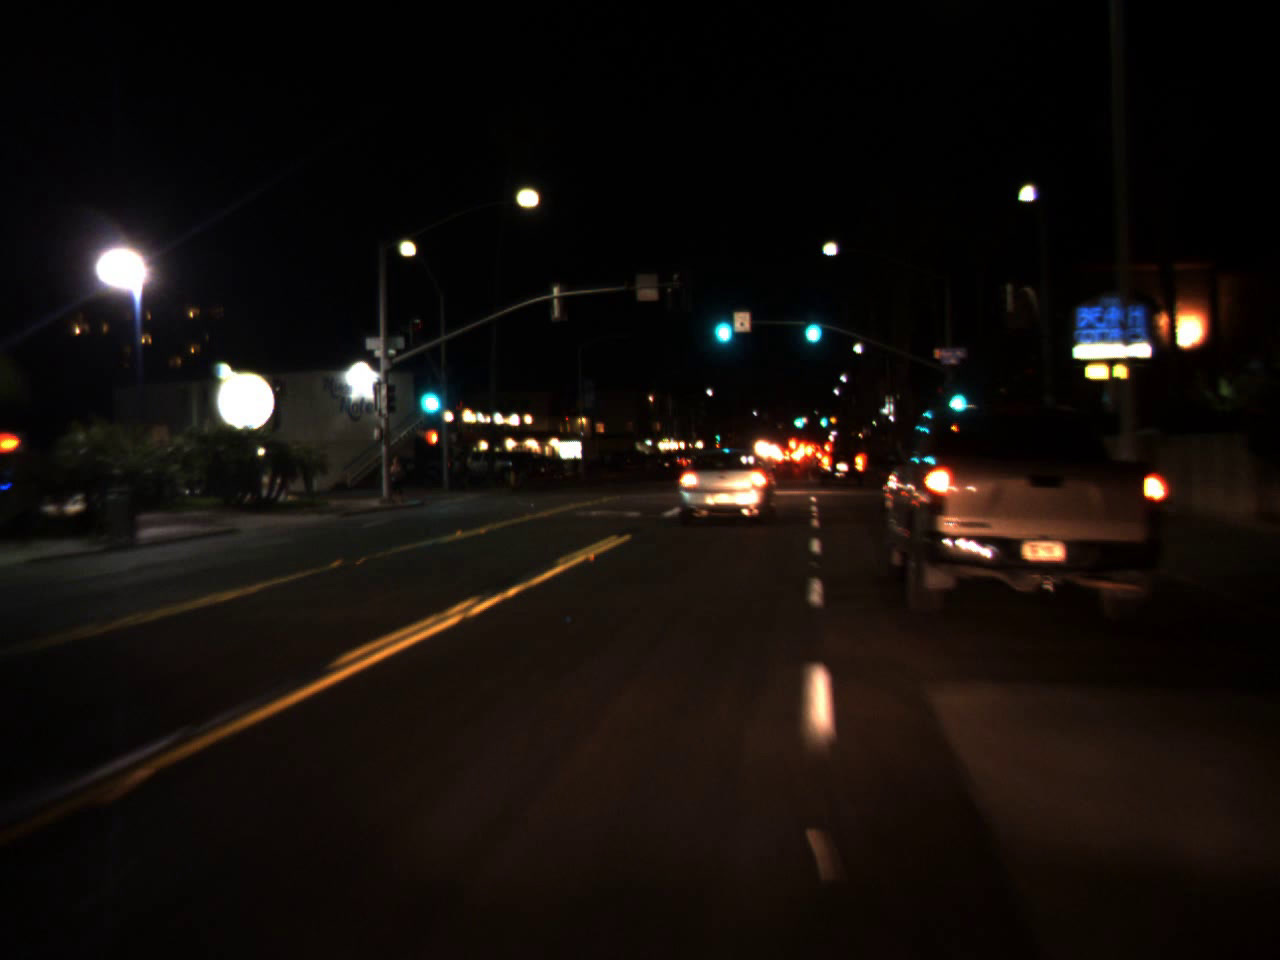go: (411, 365, 445, 422), (708, 297, 735, 351), (798, 299, 825, 350), (941, 373, 971, 418), (790, 407, 806, 431), (820, 408, 827, 429), (713, 430, 720, 442)
